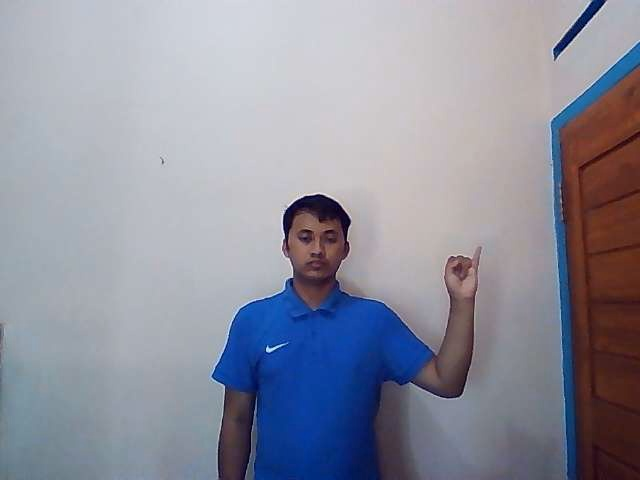I: (444, 247, 483, 301)
